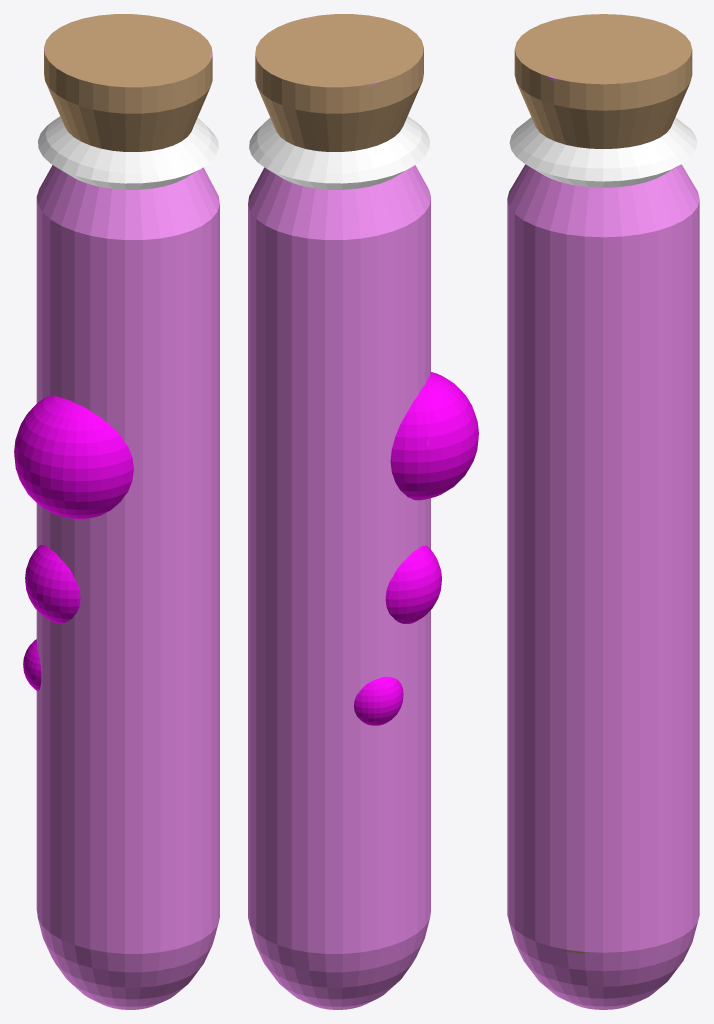
File: poisonpotion.gltf
The picture shows the model from 3 angles, left to right: view 1: azimuth 30°, elevation 25°; view 2: azimuth 150°, elevation 25°; view 3: azimuth 270°, elevation 25°; orthographic projection.
Visible parts, largest first — view 1: Sphere.002; view 2: Sphere.002; view 3: Sphere.002.
Part boxes in pixels (left/top/right/bottom): Sphere.002: left=14, top=14, right=219, bottom=1009; Sphere.002: left=248, top=14, right=478, bottom=1009; Sphere.002: left=507, top=14, right=699, bottom=1009.
Size of the model in its own units: 0.4186 by 1.94 by 0.3551.
1 material, 1 textured.
